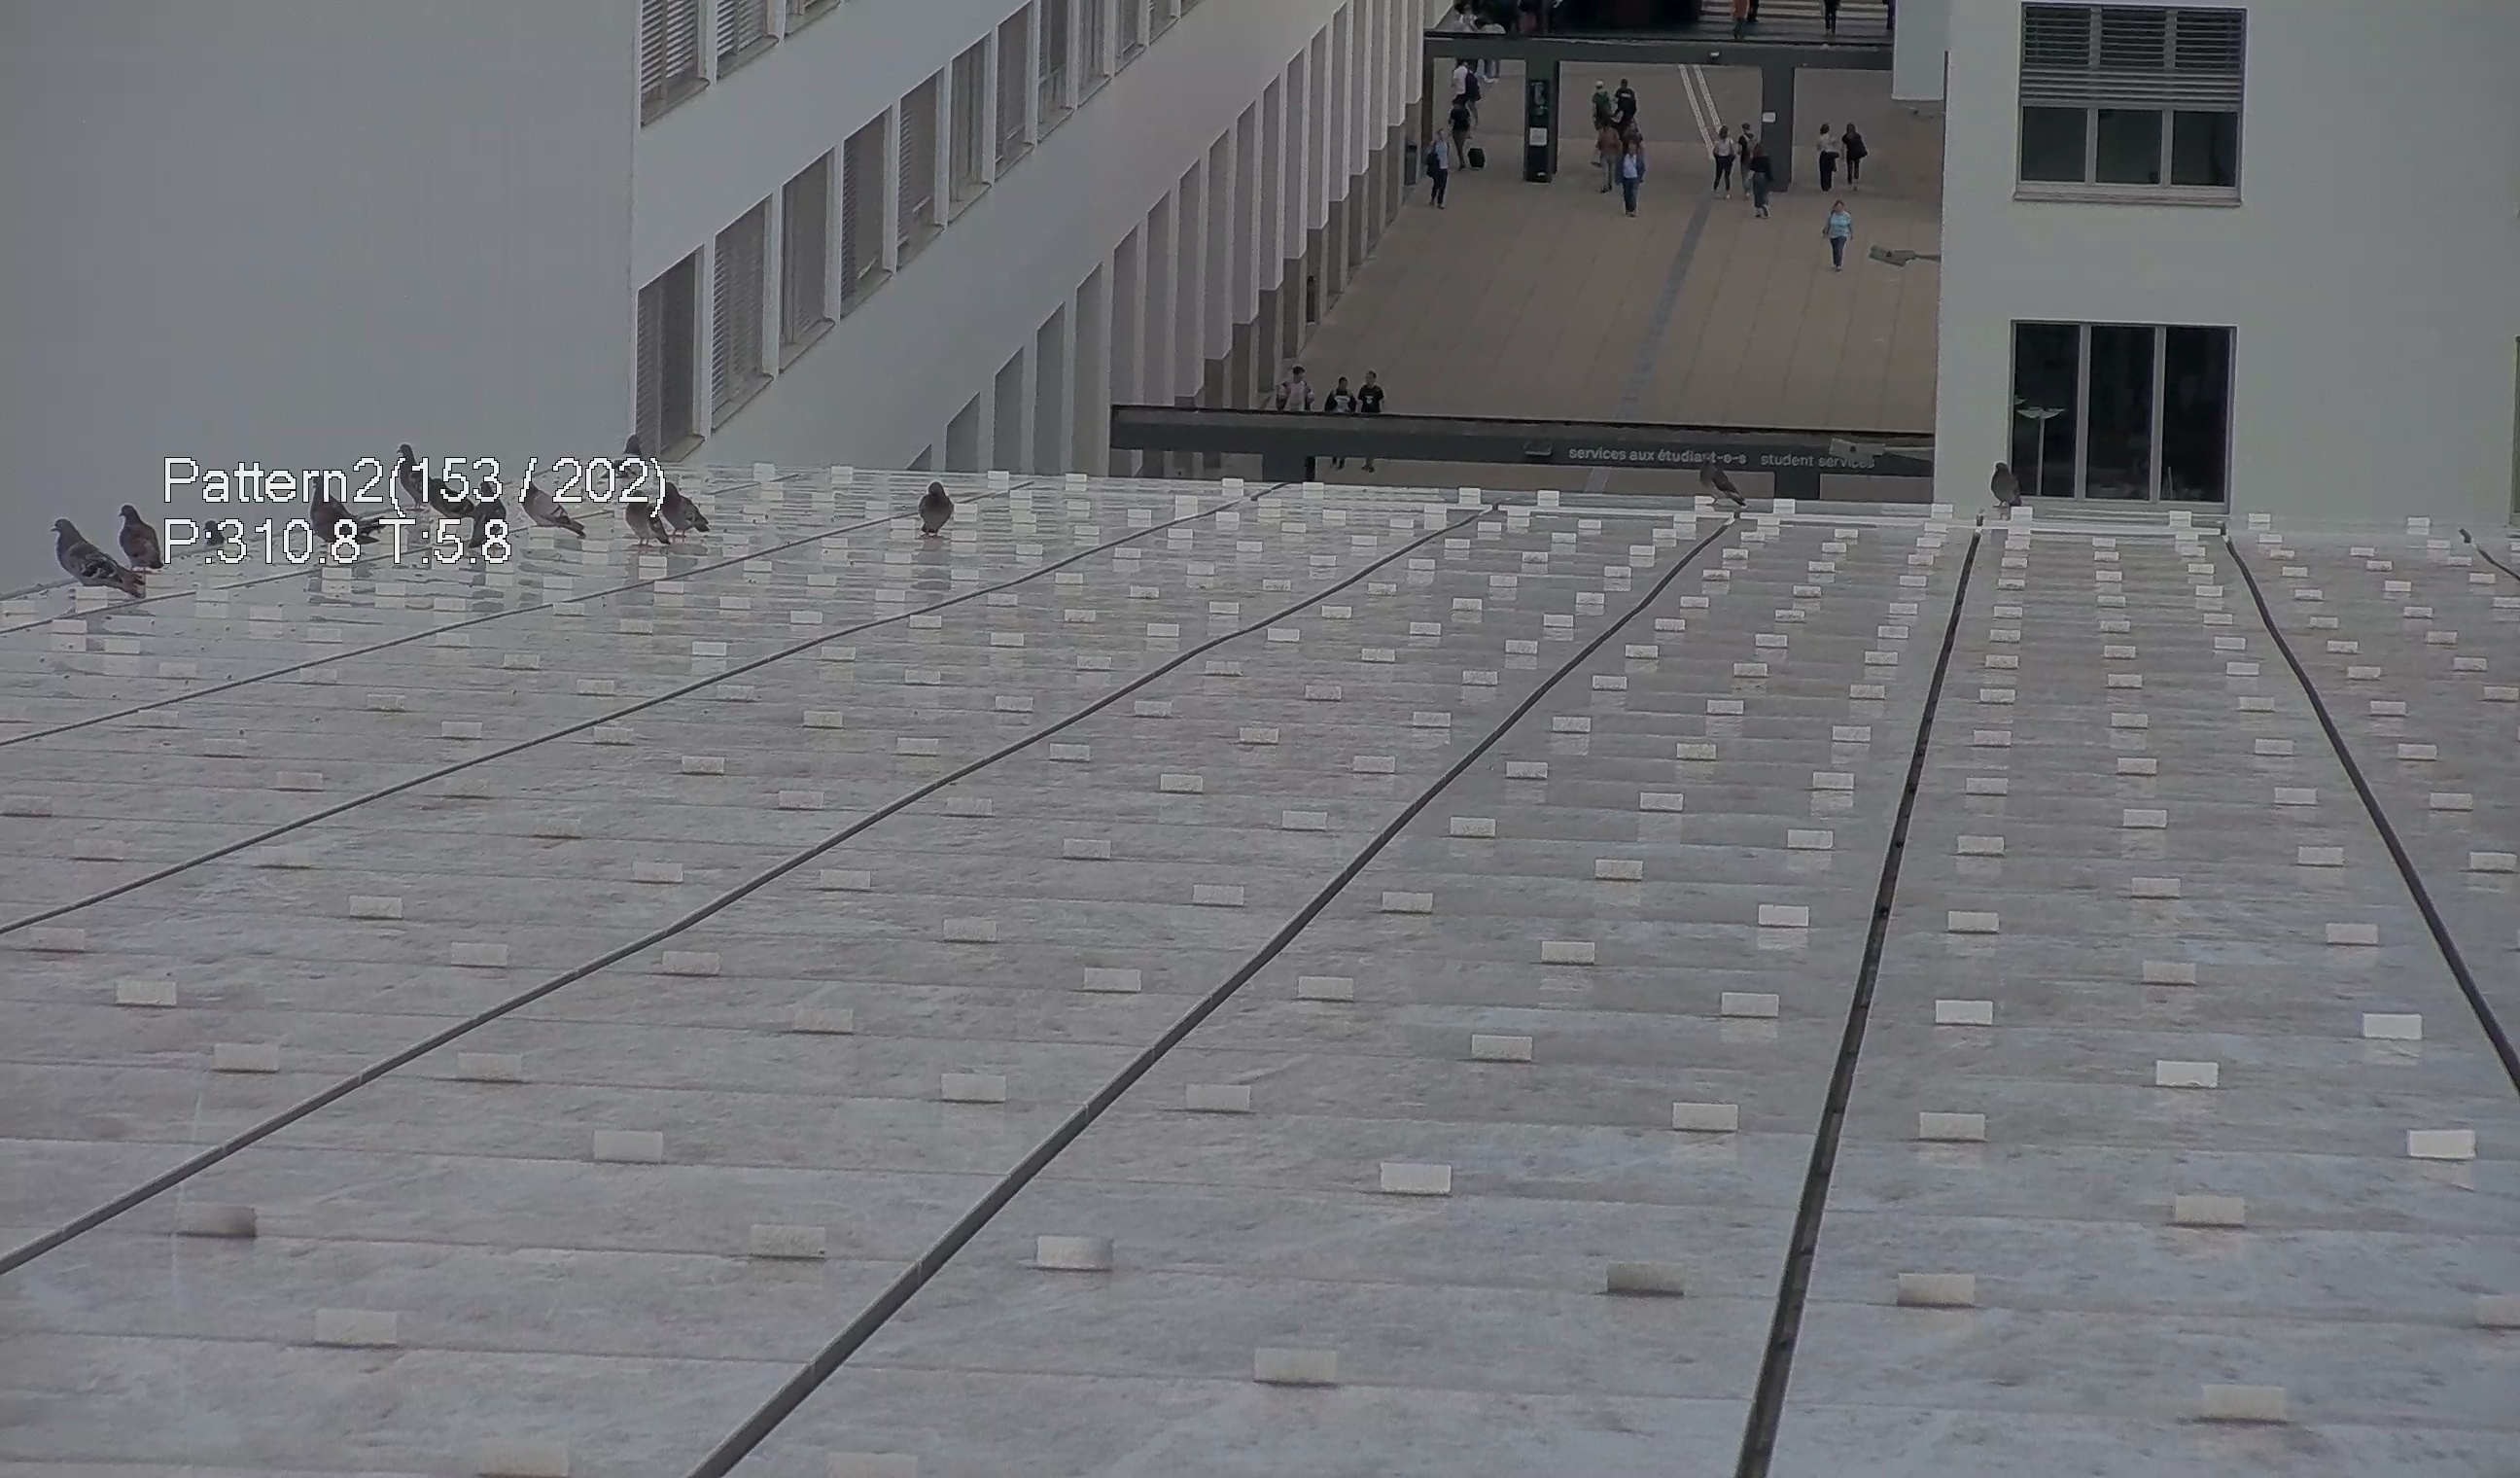Pigeon: (35, 521, 144, 621), (274, 484, 392, 556), (118, 496, 188, 579), (899, 466, 953, 538), (656, 479, 717, 540), (526, 487, 591, 544), (383, 442, 438, 509), (1695, 447, 1752, 509), (626, 491, 677, 552), (612, 431, 675, 479), (1994, 457, 2036, 519)
